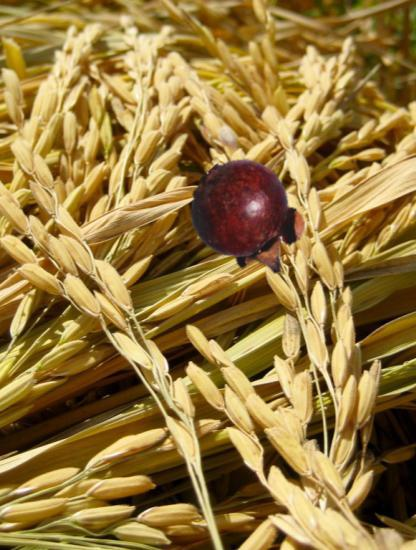Mangostan: (187, 157, 311, 281)
